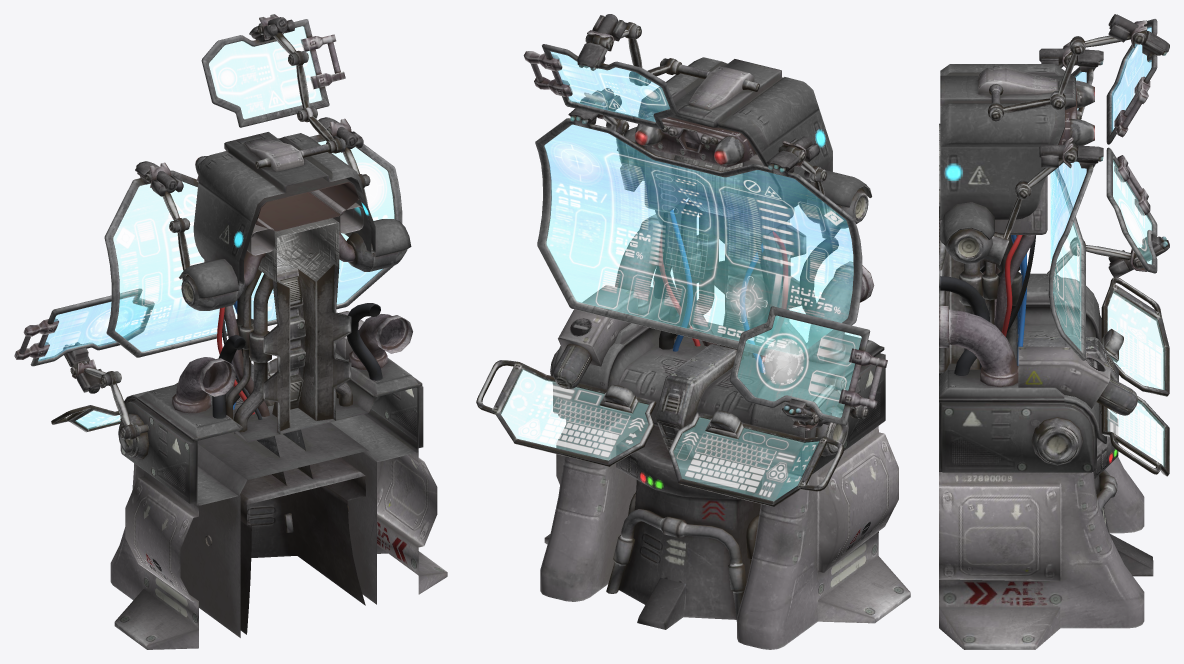
File: hologram-console.glb
3 renders of one model, left to right at view 1: azimuth 30°, elevation 25°; view 2: azimuth 150°, elevation 25°; view 3: azimuth 270°, elevation 25°, orthographic. The views are drawn at different scales.
Visible parts, largest first — view 1: Monitor.35_low, Screen04, Monitor.66_low, Monitor.67_low, Monitor.20_low, Monitor.49_low, Monitor.58_low, Monitor.44_low, Monitor.50_low, Monitor.64_low, Monitor.48_low, Monitor.47_low (+15 smaller); view 2: Screen04, Monitor.35_low, Monitor.66_low, Monitor.20_low, Monitor.49_low, Monitor.15_low, Monitor.44_low, Monitor.67_low, Monitor.58_low, Monitor.16_low, Monitor.55_low, Monitor.63_low (+23 smaller); view 3: Monitor.35_low, Monitor.66_low, Monitor.49_low, Screen04, Monitor.15_low, Monitor.01_low, Monitor.58_low, Monitor.44_low, Monitor.11_low, Monitor.56_low, Monitor.20_low, Monitor.45_low (+26 smaller).
Part boxes in pixels (x1=…): Monitor.35_low: x1=110, y1=452, x2=447, y2=649; Screen04: x1=38, y1=26, x2=394, y2=429; Monitor.66_low: x1=120, y1=353, x2=423, y2=505; Monitor.67_low: x1=258, y1=218, x2=351, y2=433; Monitor.20_low: x1=240, y1=457, x2=365, y2=634; Monitor.49_low: x1=193, y1=132, x2=375, y2=285; Monitor.58_low: x1=172, y1=314, x2=412, y2=413; Monitor.44_low: x1=104, y1=134, x2=402, y2=357; Monitor.50_low: x1=196, y1=172, x2=359, y2=231; Monitor.64_low: x1=233, y1=265, x2=352, y2=434; Monitor.48_low: x1=179, y1=219, x2=411, y2=298; Monitor.47_low: x1=181, y1=233, x2=407, y2=310; Screen04: x1=500, y1=52, x2=861, y2=500; Monitor.35_low: x1=540, y1=418, x2=910, y2=649; Monitor.66_low: x1=552, y1=287, x2=885, y2=476; Monitor.20_low: x1=616, y1=424, x2=762, y2=629; Monitor.49_low: x1=633, y1=57, x2=832, y2=208; Monitor.15_low: x1=476, y1=360, x2=843, y2=506; Monitor.44_low: x1=535, y1=118, x2=862, y2=364; Monitor.67_low: x1=671, y1=155, x2=806, y2=356; Monitor.58_low: x1=615, y1=214, x2=874, y2=363; Monitor.16_low: x1=655, y1=344, x2=743, y2=460; Monitor.55_low: x1=644, y1=145, x2=794, y2=236; Monitor.63_low: x1=659, y1=199, x2=787, y2=374; Monitor.35_low: x1=939, y1=457, x2=1144, y2=649; Monitor.66_low: x1=939, y1=273, x2=1106, y2=472; Monitor.49_low: x1=940, y1=64, x2=1075, y2=219; Screen04: x1=1050, y1=27, x2=1164, y2=466; Monitor.15_low: x1=1101, y1=277, x2=1169, y2=476; Monitor.01_low: x1=1018, y1=346, x2=1110, y2=408; Monitor.58_low: x1=939, y1=264, x2=1020, y2=387; Monitor.44_low: x1=1048, y1=67, x2=1093, y2=360; Monitor.11_low: x1=988, y1=26, x2=1147, y2=121; Monitor.56_low: x1=1031, y1=417, x2=1082, y2=465; Monitor.20_low: x1=1093, y1=410, x2=1153, y2=576; Monitor.45_low: x1=978, y1=67, x2=1057, y2=94.
Size of the model in its own units: 1.41 by 2 by 0.7175.
Materials: 2 (2 with a texture image).
